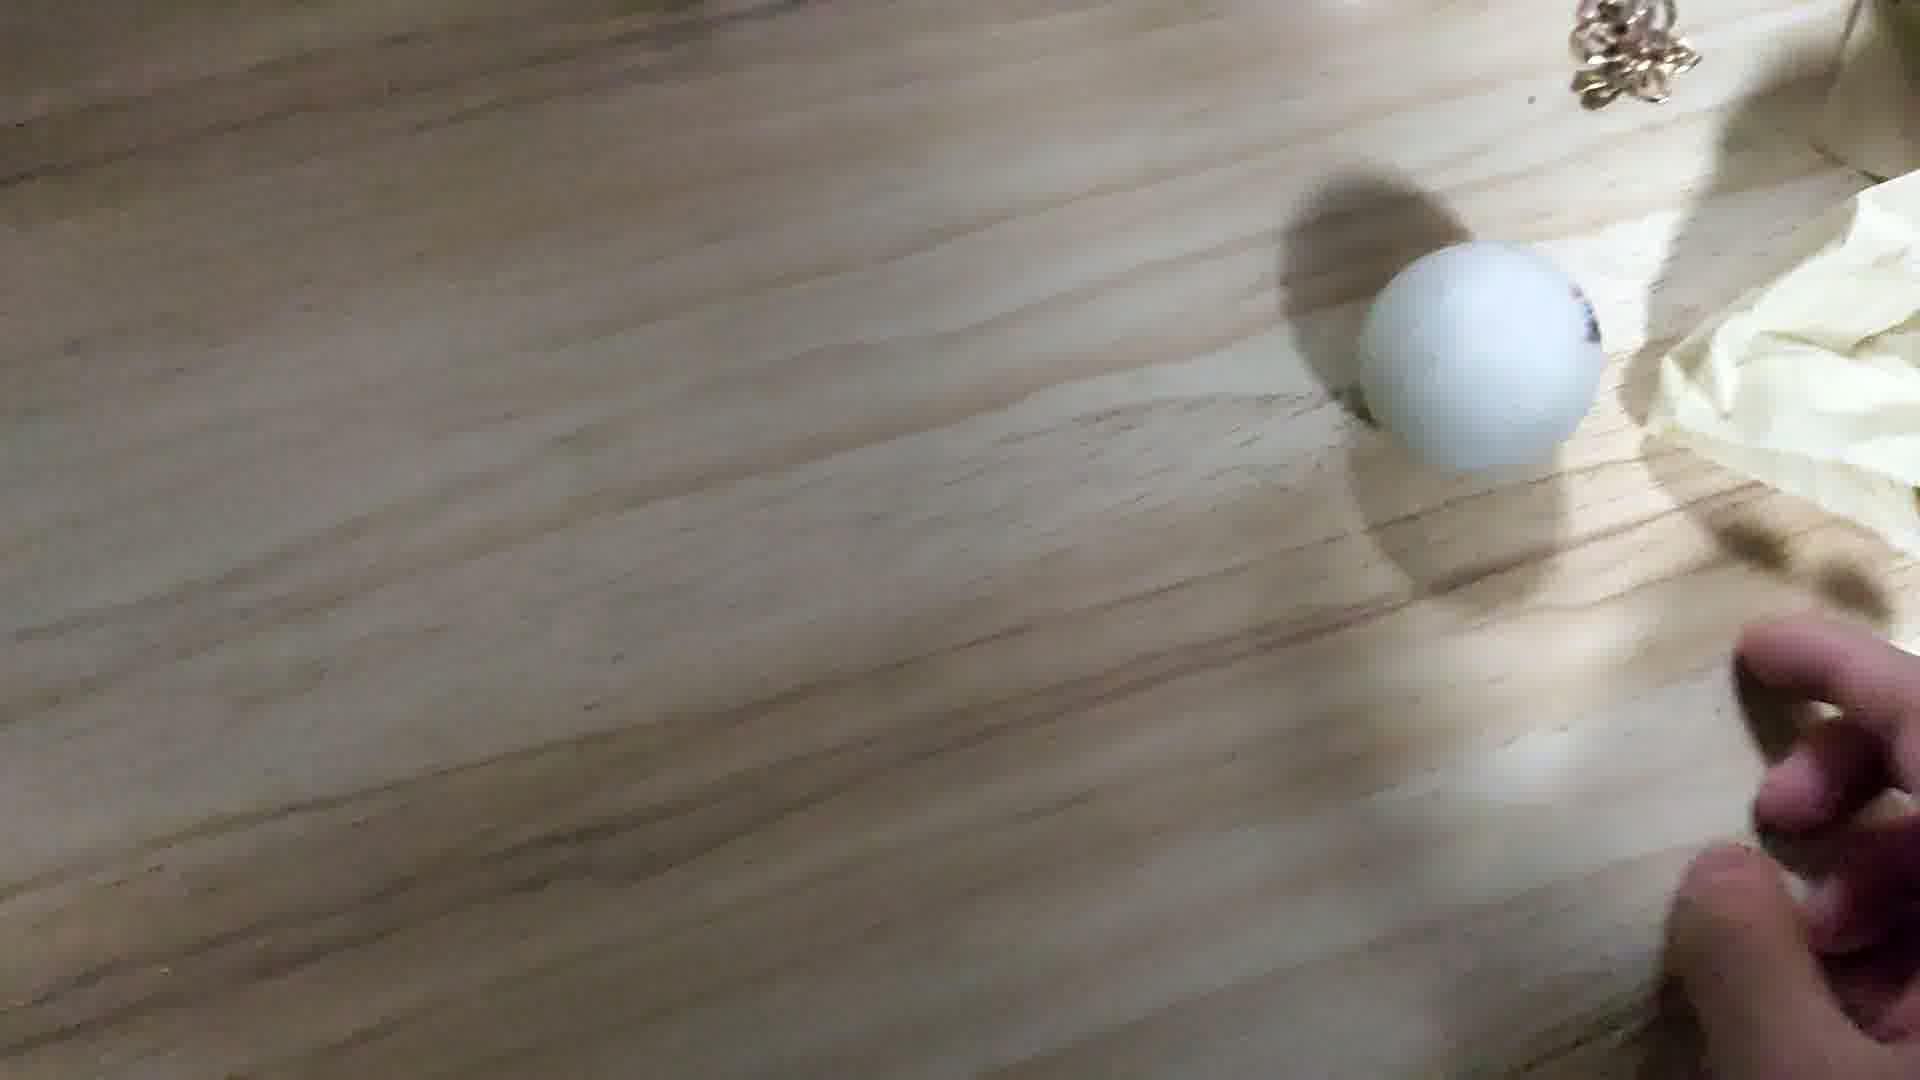Ball: (1349, 240, 1601, 469)
